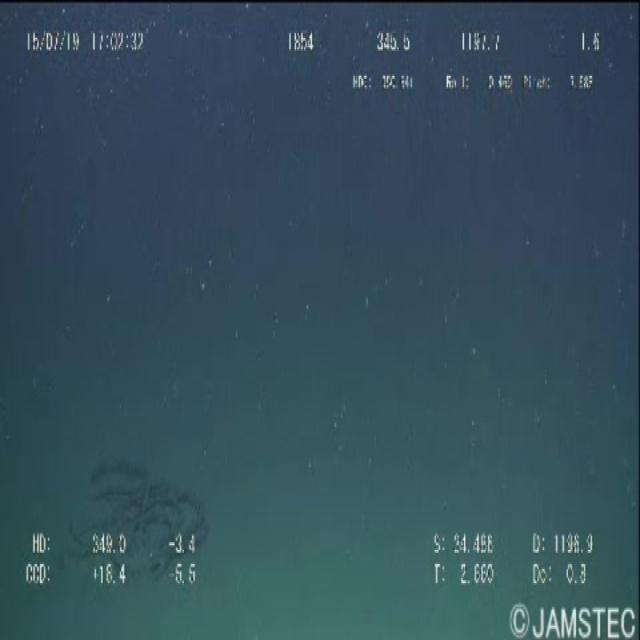Rope: (73, 457, 209, 595)
